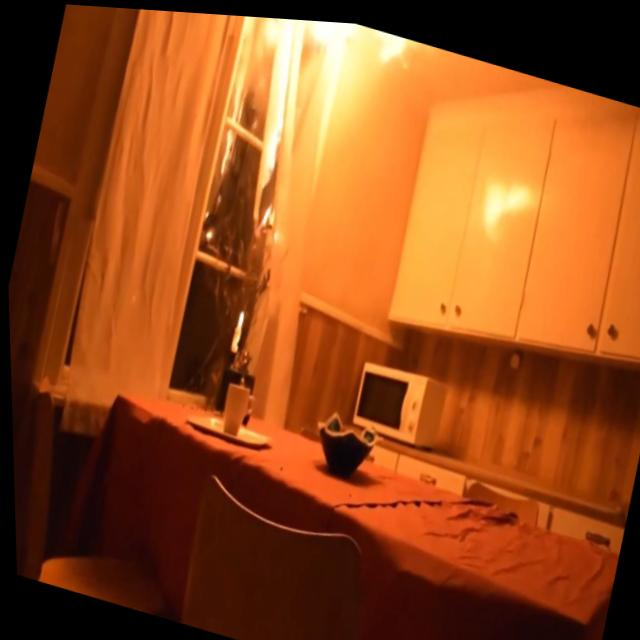fire: (232, 12, 419, 196), (233, 302, 245, 328)
